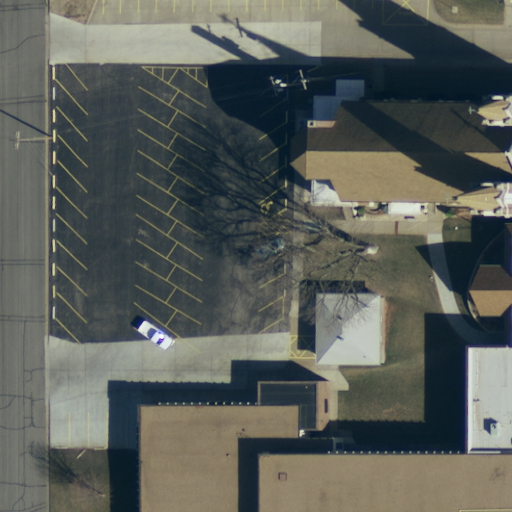DT: (5, 123, 56, 154), (289, 65, 315, 95)
